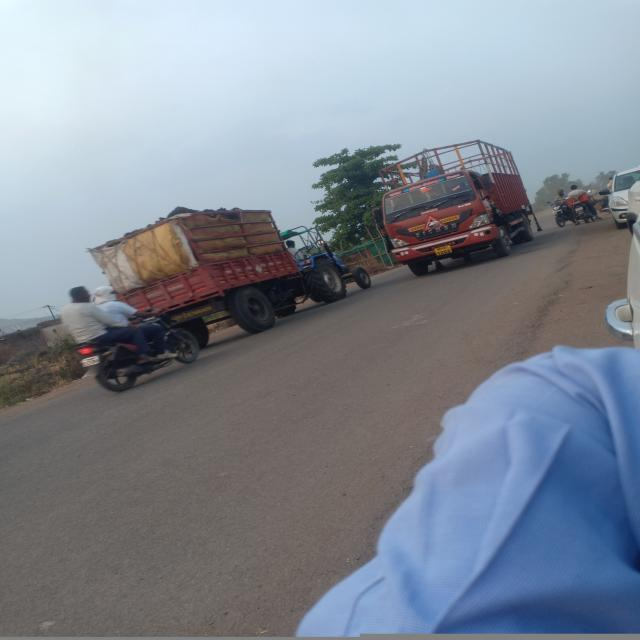tractor_back: (84, 197, 376, 332)
truck_front: (370, 133, 545, 277)
two_wheeler_back: (74, 301, 207, 398)
